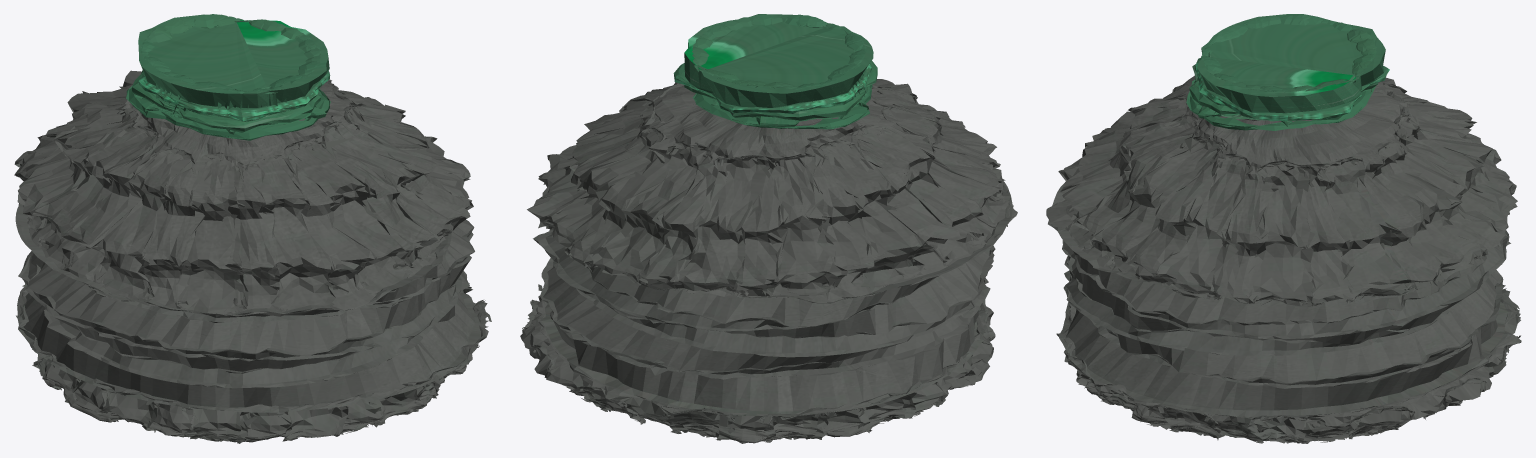
Rendered from crush_high_0.obj.
3 views of the same model, side by side, from view 1: azimuth 30°, elevation 25°; view 2: azimuth 150°, elevation 25°; view 3: azimuth 270°, elevation 25° (orthographic). The views are drawn at different scales.
Parts seen in each view (by area): view 1: model; view 2: model; view 3: model.
Part boxes in pixels (box(x1,y1,x2,y2)): model: box(14, 14, 491, 443); model: box(520, 14, 1017, 443); model: box(1046, 14, 1521, 443).
Bounding box in the file's own units: 0.1152 × 0.0833 × 0.1168.
1 material, 1 textured.
